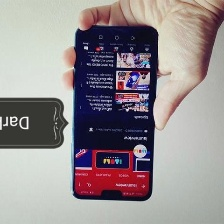phone: (67, 23, 162, 205)
